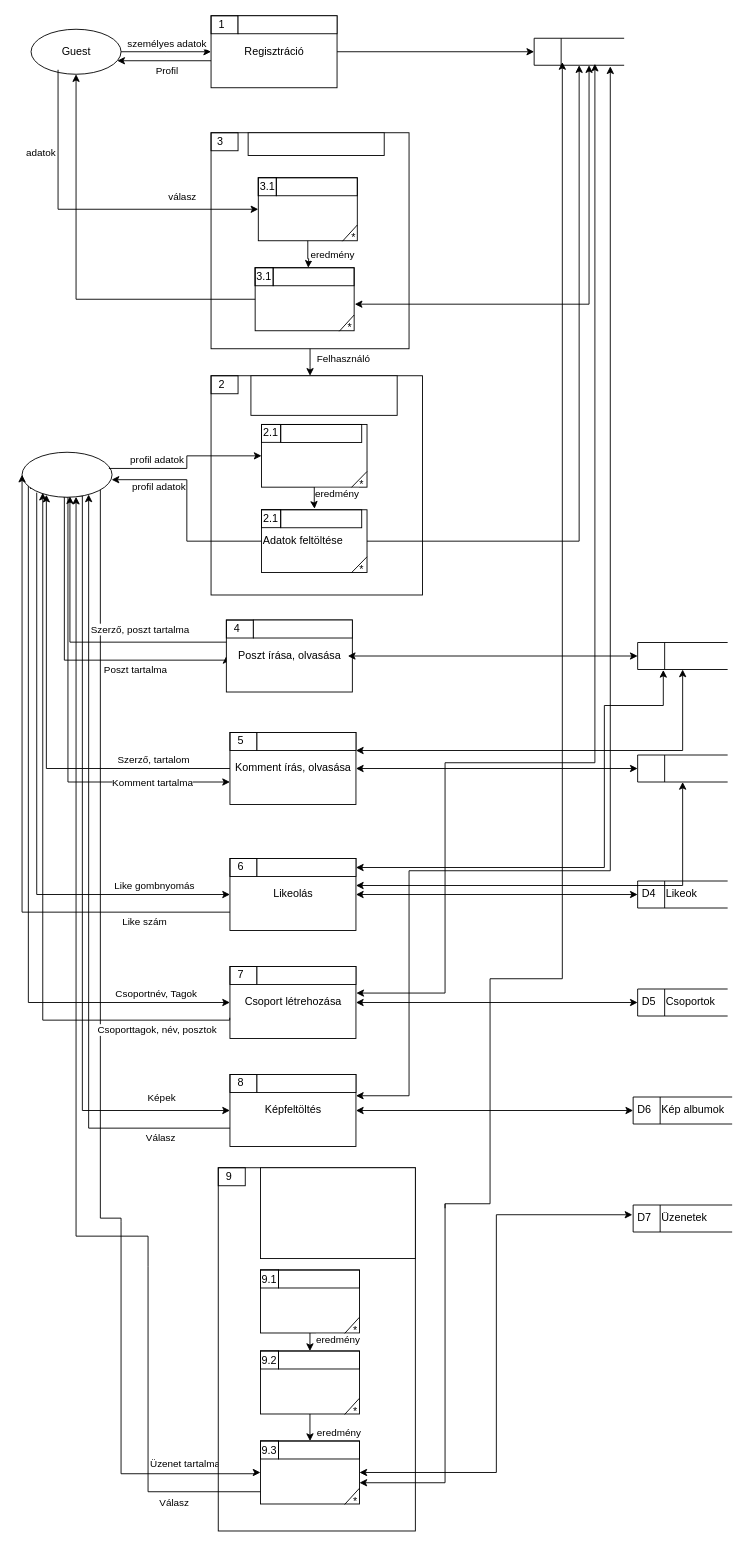
The diagram is 748 pixels wide and 1547 high, and some of its shapes have lost their labels. The shapes that lost their labels are listed below. From the top down, each one's box as (x1, y1, x2, y2) in pixels, then its label:
(533, 37, 624, 65): D1 User
(257, 177, 357, 241): Bejelentkezési adatok elemzése
(254, 267, 354, 331): Bejelentkezési adatok ellenörzése
(21, 451, 112, 497): User
(261, 424, 367, 487): Adatok helyeségének ellenörzése
(637, 642, 728, 670): D2 Posztok
(637, 754, 728, 782): D3 Kommentek
(260, 1269, 359, 1333): Barát kiválasztása
(260, 1350, 359, 1414): Üzenet tartalom megírása
(260, 1440, 359, 1504): Üzenet küldés
